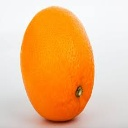orange: (19, 6, 97, 125)
